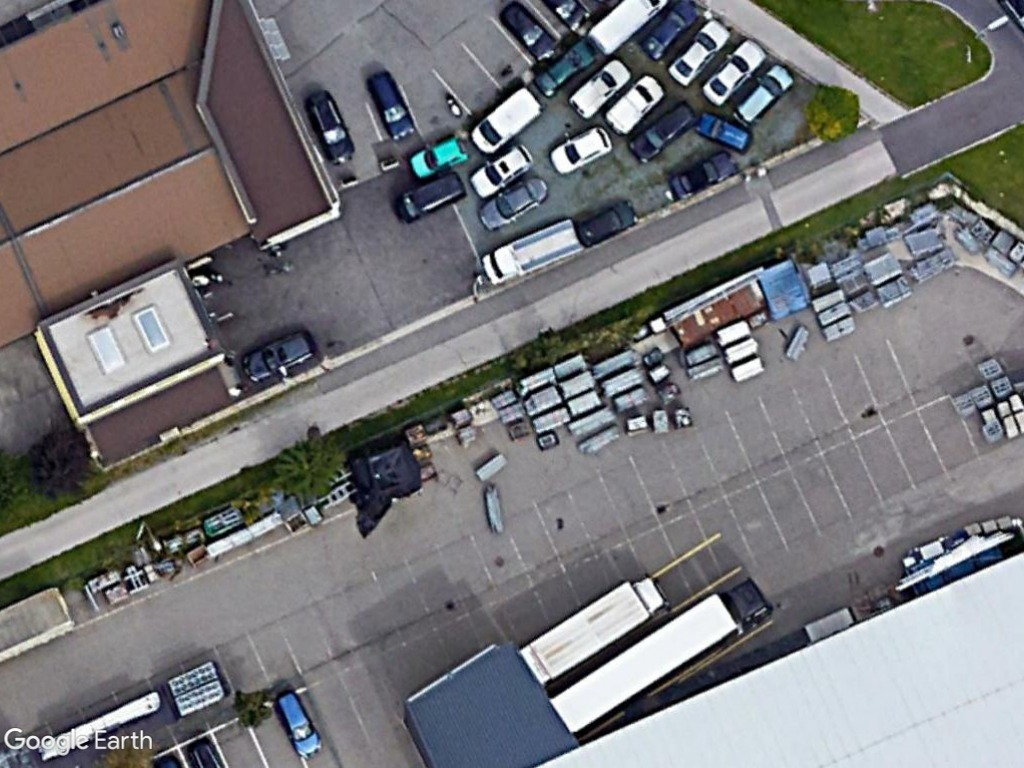car: (663, 15, 735, 92), (700, 36, 771, 108), (626, 96, 694, 169), (239, 324, 319, 385), (475, 170, 552, 233), (530, 34, 599, 99), (733, 60, 796, 130), (300, 90, 357, 167), (631, 0, 705, 58), (363, 67, 417, 144), (466, 138, 534, 199), (568, 55, 634, 117), (404, 129, 476, 185), (494, 1, 559, 62), (668, 148, 737, 204), (271, 690, 325, 759), (544, 124, 614, 176), (575, 195, 642, 248), (694, 108, 757, 153)
truck: (545, 573, 772, 737), (509, 568, 671, 688), (476, 212, 583, 287)
van: (468, 82, 546, 156), (390, 171, 466, 226), (605, 70, 668, 135)
